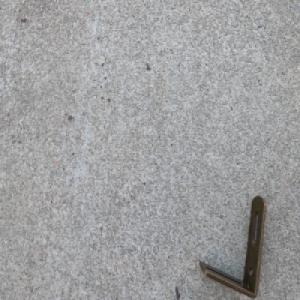MetalPart: (199, 192, 267, 298)
